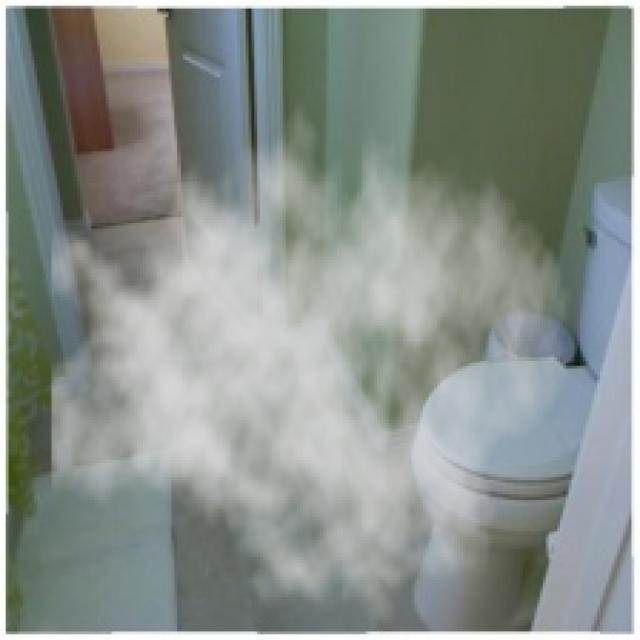smoke: (51, 80, 572, 629)
